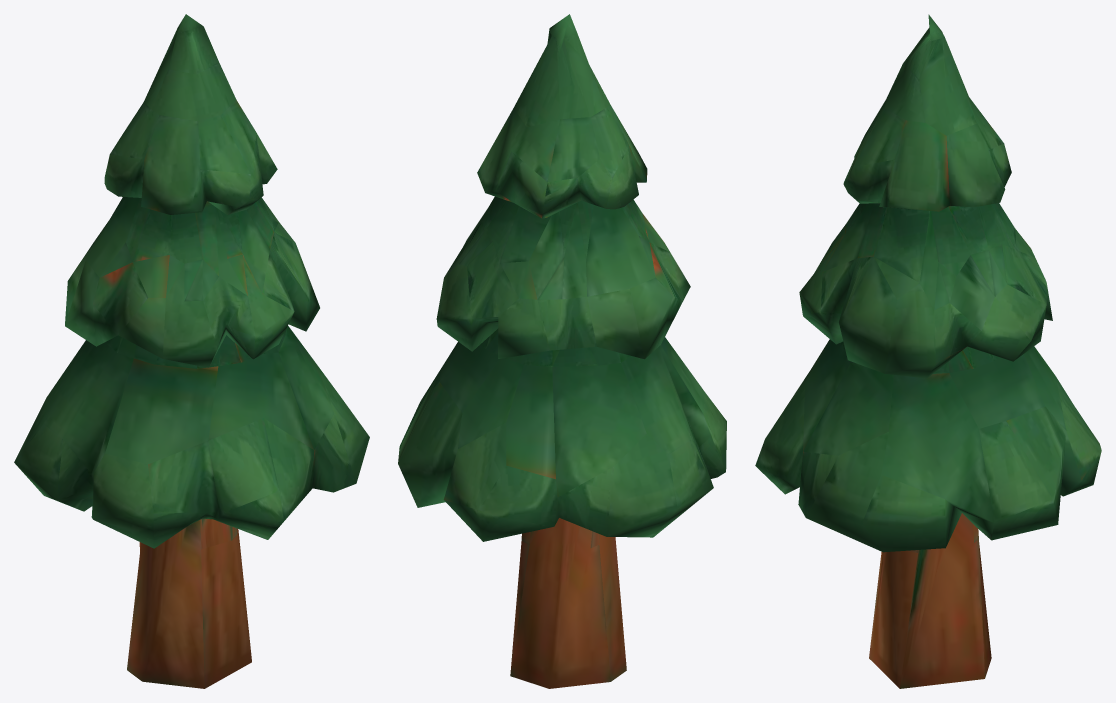
Rendered from tree_pine.glb.
3 renders of one model, left to right at view 1: azimuth 30°, elevation 25°; view 2: azimuth 150°, elevation 25°; view 3: azimuth 270°, elevation 25°, orthographic.
Size of the model in its own units: 0.4688 by 1 by 0.4834.
1 material, 1 textured.
